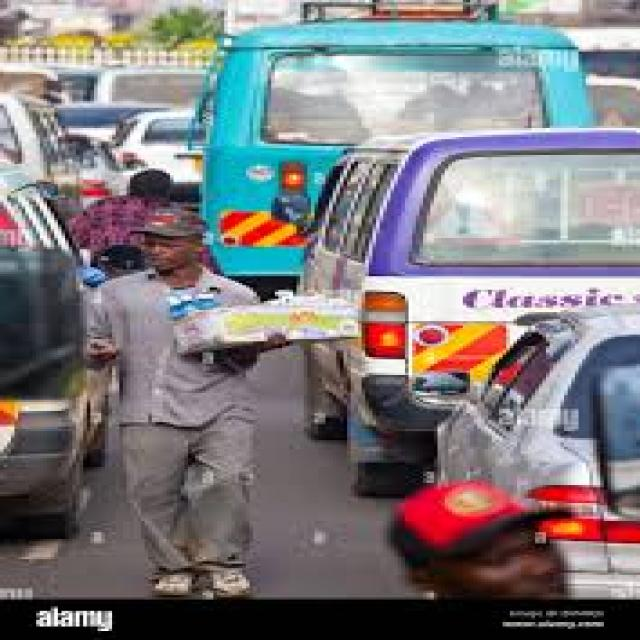matatu: (316, 123, 640, 294)
